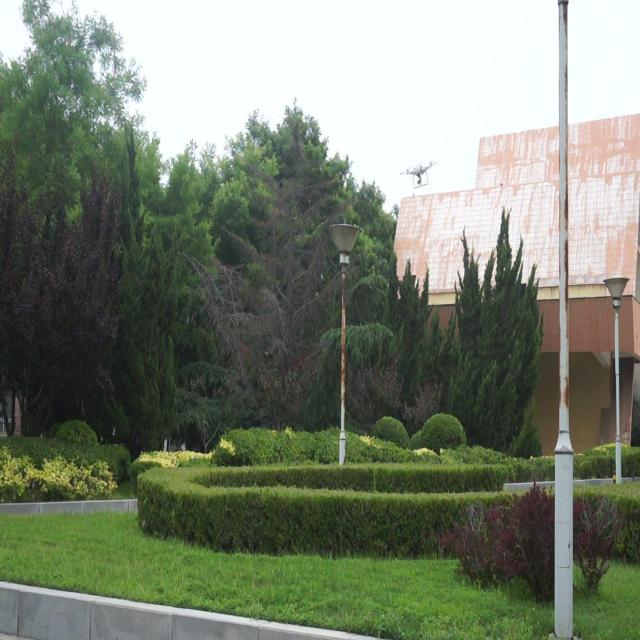drone: (400, 160, 436, 189)
